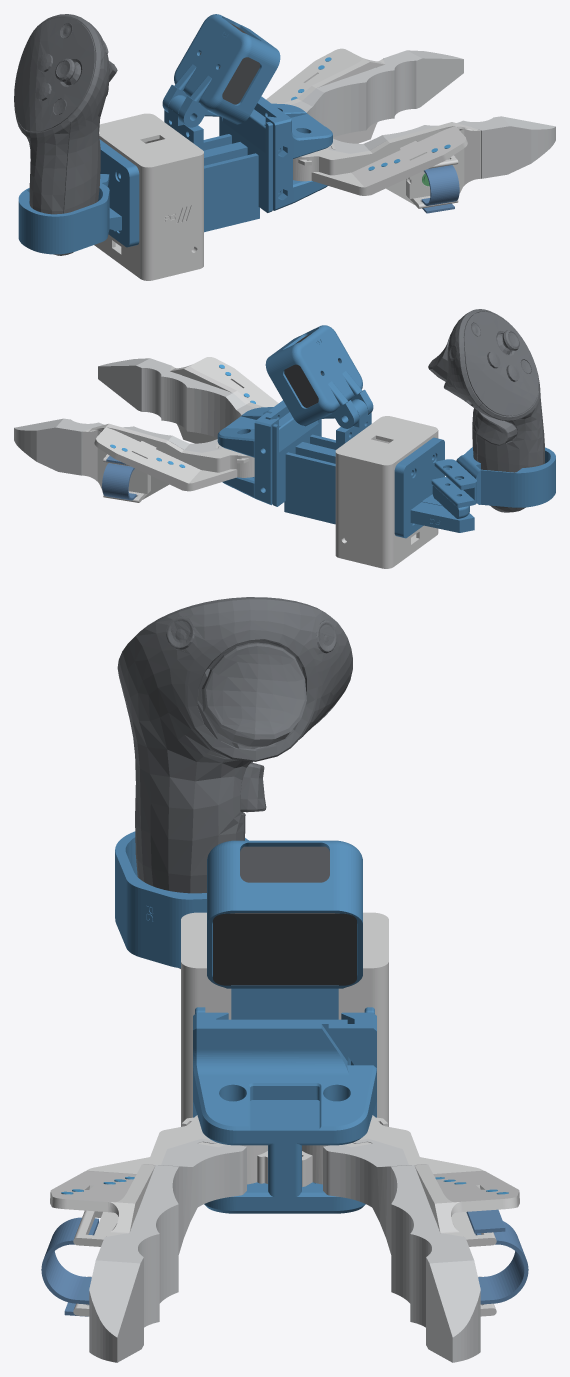
The model's file is chop-umi_right.glb.
3 views of the same model, one above another, from view 1: azimuth 30°, elevation 25°; view 2: azimuth 150°, elevation 25°; view 3: azimuth 270°, elevation 25° (orthographic). The views are drawn at different scales.
Visible parts, largest first — view 1: quest_controller_envelope, ebox, jaw_right_dc_button, d405_frame, tip_tpu_left, d405_cup, tip_tpu_right, chopstick_base_dc, quest_support_right, quest_arm_right, jaw_left_dc, sleeve_strap_right (+2 smaller); view 2: quest_controller_envelope, ebox, jaw_left_dc, d405_frame, tip_tpu_right, d405_cup, quest_support_right, quest_arm_right, tip_tpu_left, jaw_right_dc_button, chopstick_base_dc, chopstick_clip_dc (+3 smaller); view 3: quest_controller_envelope, chopstick_base_dc, tip_tpu_left, tip_tpu_right, d405_envelope, d405_cup, ebox, jaw_right_dc_button, jaw_left_dc, quest_support_right, d405_frame, sleeve_strap_left (+2 smaller).
Part boxes in pixels (box(x1,y1,x2,y2)): quest_controller_envelope: box(14, 14, 117, 255); ebox: box(97, 113, 203, 277); jaw_right_dc_button: box(293, 122, 480, 208); d405_frame: box(164, 95, 272, 232); tip_tpu_left: box(291, 50, 463, 137); d405_cup: box(162, 14, 280, 127); tip_tpu_right: box(328, 116, 555, 178); chopstick_base_dc: box(254, 96, 332, 210); quest_support_right: box(18, 174, 109, 254); quest_arm_right: box(99, 139, 139, 247); jaw_left_dc: box(266, 48, 385, 143); sleeve_strap_right: box(421, 165, 459, 213); quest_controller_envelope: box(428, 309, 544, 512); ebox: box(335, 416, 438, 565); jaw_left_dc: box(82, 423, 254, 502); d405_frame: box(272, 399, 371, 524); tip_tpu_right: box(98, 358, 255, 437); d405_cup: box(265, 325, 373, 428); quest_support_right: box(431, 447, 555, 507); quest_arm_right: box(394, 437, 474, 538); tip_tpu_left: box(14, 418, 221, 475); jaw_right_dc_button: box(170, 357, 278, 443); chopstick_base_dc: box(217, 400, 289, 498); chopstick_clip_dc: box(254, 412, 278, 505); quest_controller_envelope: box(117, 597, 352, 968); chopstick_base_dc: box(193, 1012, 376, 1213); tip_tpu_left: box(323, 1138, 480, 1362); tip_tpu_right: box(89, 1138, 246, 1362); d405_envelope: box(213, 846, 356, 985); d405_cup: box(207, 840, 362, 988); ebox: box(181, 912, 388, 1126); jaw_right_dc_button: box(50, 1115, 267, 1316); jaw_left_dc: box(302, 1115, 519, 1316); quest_support_right: box(115, 831, 248, 968); d405_frame: box(195, 988, 374, 1065); sleeve_strap_left: box(466, 1209, 528, 1304).
Size of the model in its own units: 0.3126 by 0.1528 by 0.1405.
